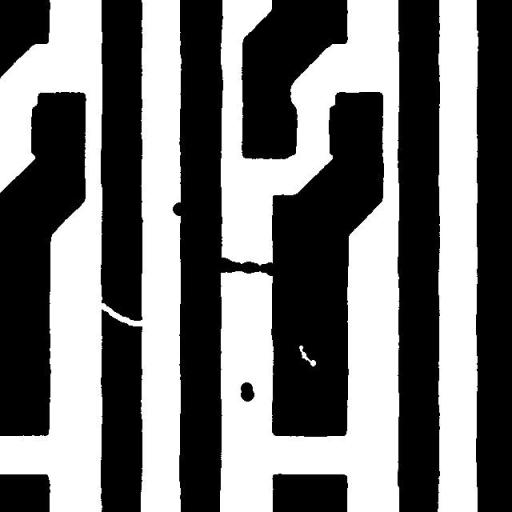copper: (232, 374, 262, 409)
open: (90, 295, 152, 334)
pin-hole: (291, 338, 323, 374)
short: (206, 250, 284, 283)
spur: (164, 194, 194, 224)
